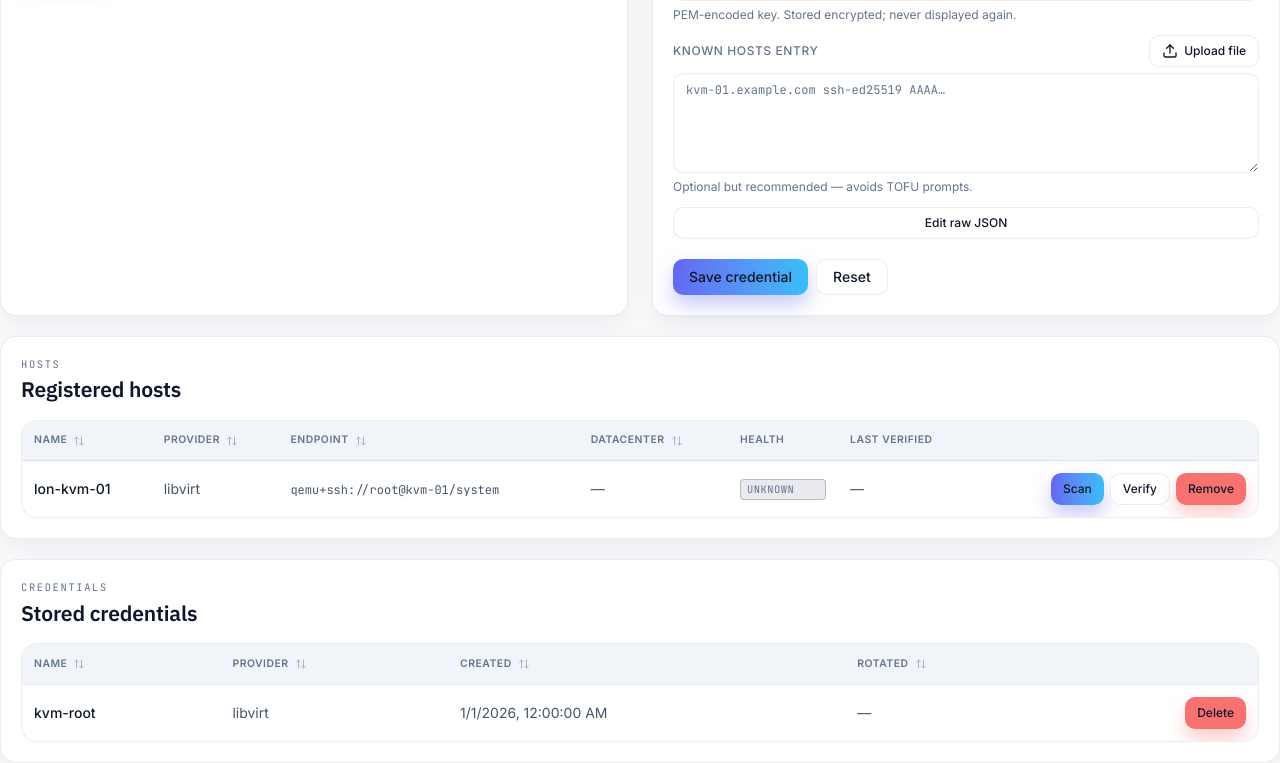
Test: Hypervisors › requires modal confirmation before deleting a provider credential and keeps failed deletion visible
(page scrolled)
Click the button with aria-label "Delete provider credential kvm-root": (1216, 713) [1185,697,1246,729]
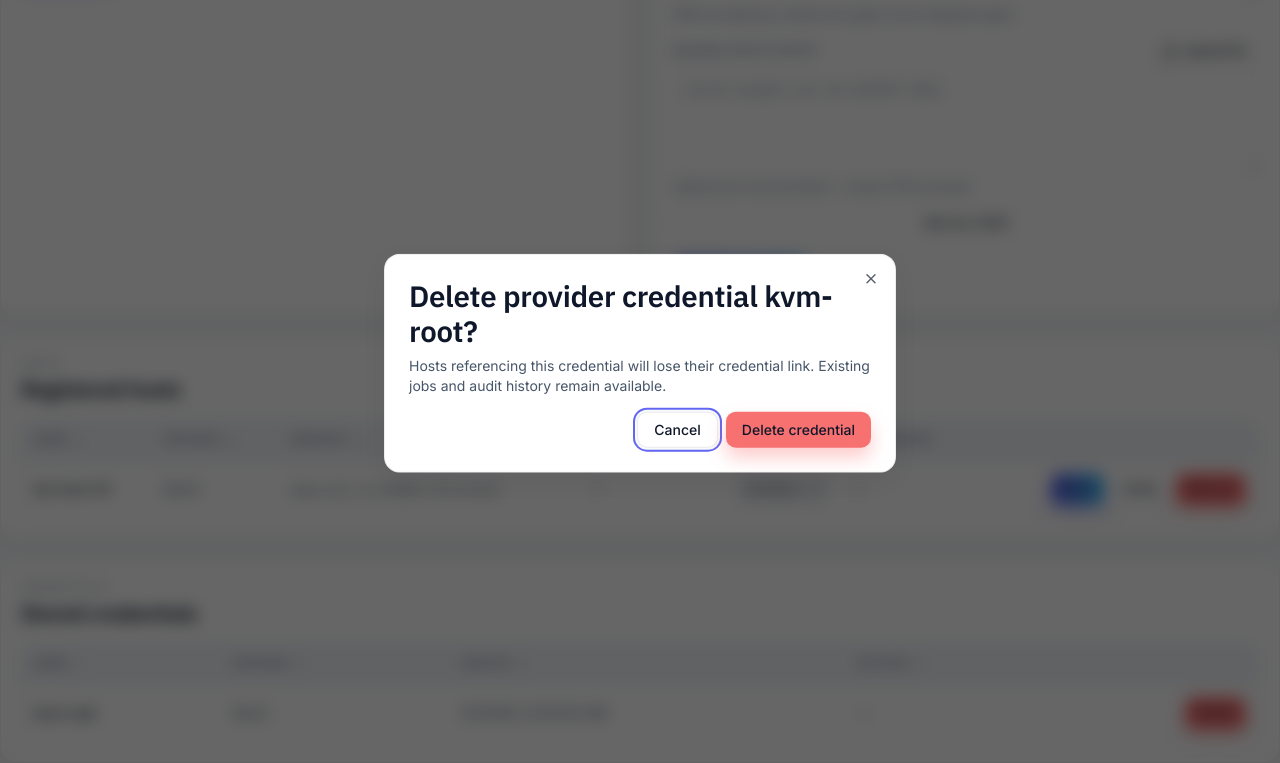
Click the button "Delete credential": (798, 429) [726,411,871,447]
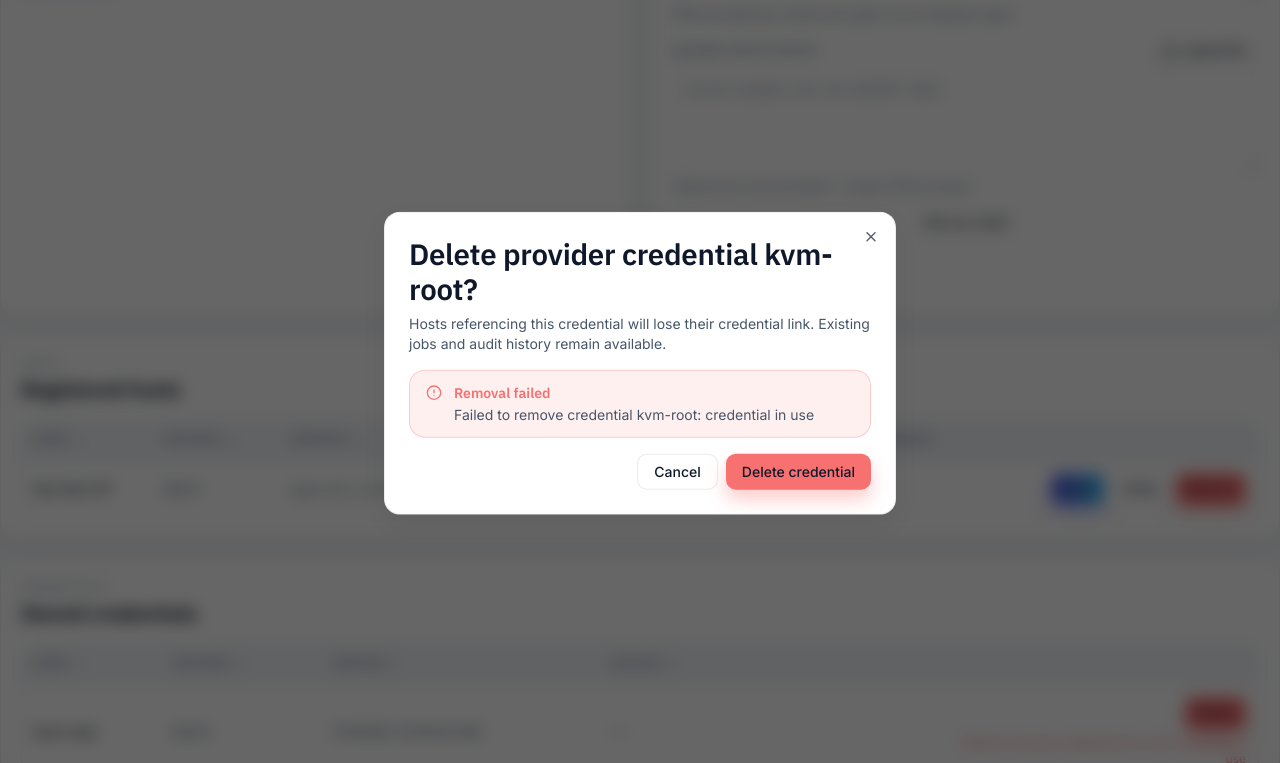
Check: the dialog "Delete provider credential kvm-root" is shown, box [384,212,896,514]
Check: the text "Removal failed" is shown, box [454,383,550,401]
